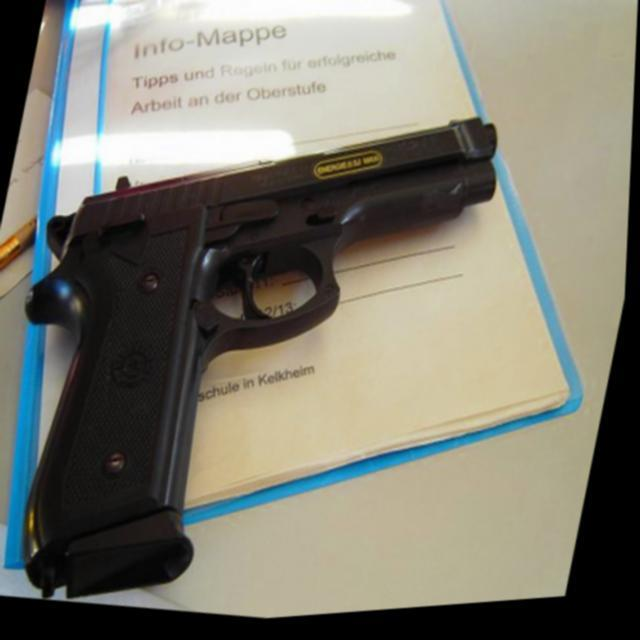weapon: (0, 55, 515, 640)
